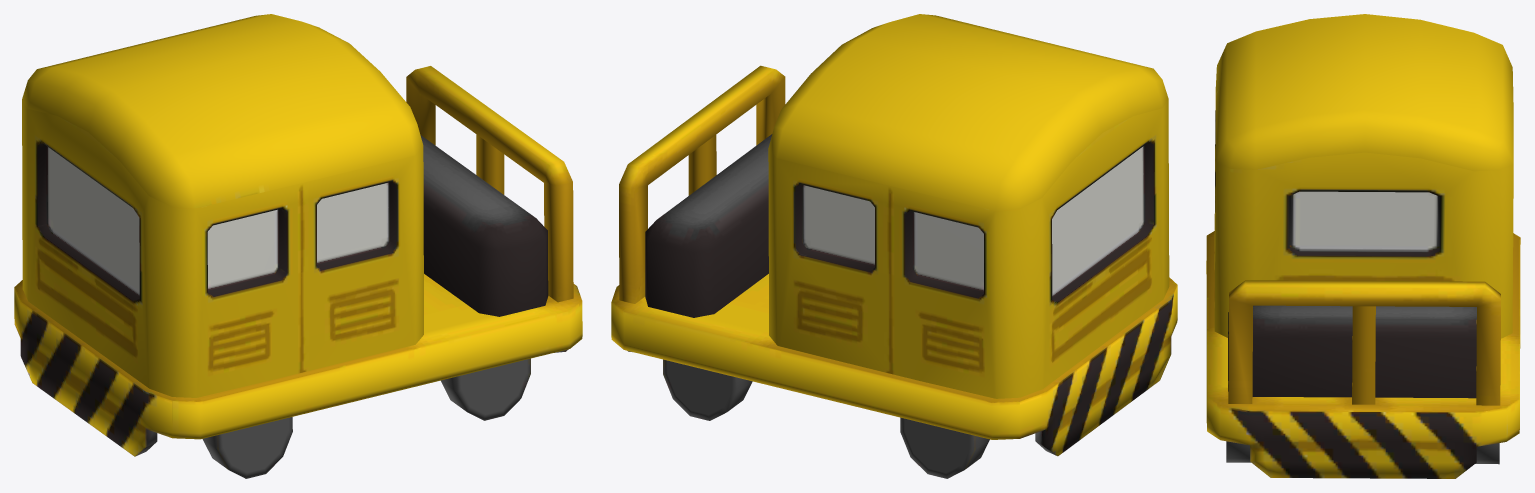
The model's file is SM_Drezyna.fbx.
3 renders of one model, left to right at view 1: azimuth 30°, elevation 25°; view 2: azimuth 150°, elevation 25°; view 3: azimuth 270°, elevation 25°, orthographic. The views are drawn at different scales.
Visible parts, largest first — view 1: SM_Drezyna, SM_Drezyna3, SM_Drezyna2, SM_Drezyna4, SM_Drezyna1; view 2: SM_Drezyna, SM_Drezyna3, SM_Drezyna2, SM_Drezyna4, SM_Drezyna1; view 3: SM_Drezyna3, SM_Drezyna, SM_Drezyna2, SM_Drezyna4, SM_Drezyna1.
Boxes of the visible parts, bbox=[...] form: SM_Drezyna: bbox=[22, 100, 423, 397]; SM_Drezyna3: bbox=[22, 14, 423, 208]; SM_Drezyna2: bbox=[14, 274, 582, 478]; SM_Drezyna4: bbox=[420, 135, 548, 316]; SM_Drezyna1: bbox=[406, 66, 573, 302]; SM_Drezyna: bbox=[768, 99, 1169, 398]; SM_Drezyna3: bbox=[768, 14, 1168, 210]; SM_Drezyna2: bbox=[611, 274, 1177, 478]; SM_Drezyna4: bbox=[645, 134, 772, 317]; SM_Drezyna1: bbox=[619, 65, 785, 303]; SM_Drezyna3: bbox=[1216, 14, 1513, 171]; SM_Drezyna: bbox=[1214, 67, 1513, 338]; SM_Drezyna2: bbox=[1206, 231, 1520, 478]; SM_Drezyna4: bbox=[1228, 305, 1476, 398]; SM_Drezyna1: bbox=[1228, 280, 1500, 405].
Size of the model in its own units: 82.28 by 63.28 by 57.65.
